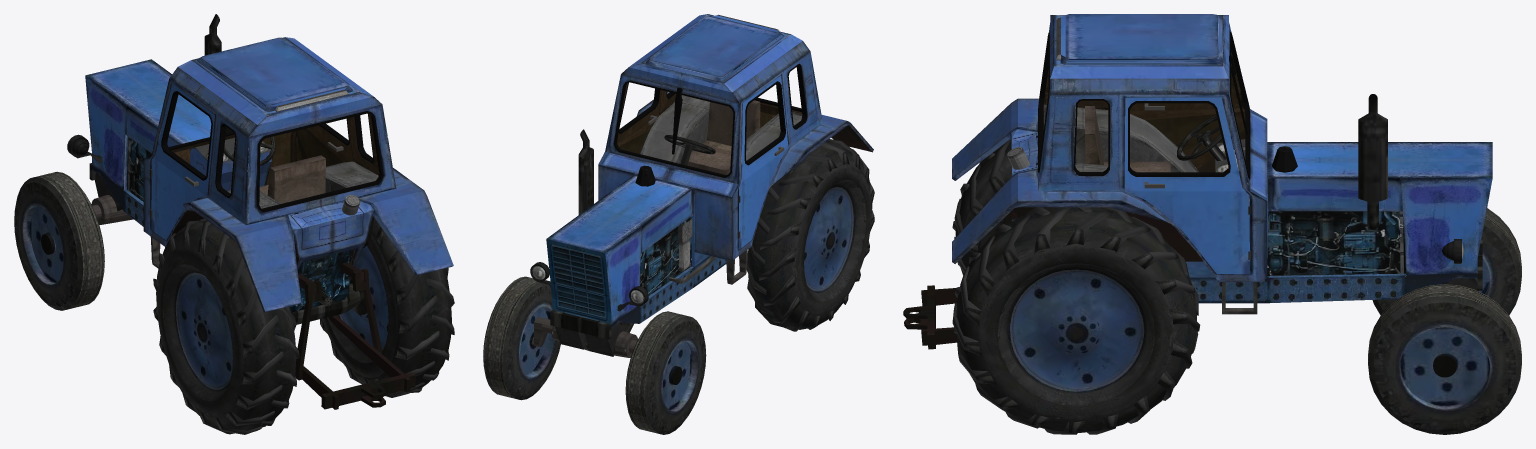
Rendered from tractor-mtz80-lowpoly.glb.
The picture shows the model from 3 angles, left to right: view 1: azimuth 30°, elevation 25°; view 2: azimuth 150°, elevation 25°; view 3: azimuth 270°, elevation 25°; orthographic projection. The views are drawn at different scales.
Visible parts, largest first — view 1: Tracktor, Wheel_Back_L, Wheel_Back_R, Front_Wheel_L, TrapDoor, hook, Door_L, Door_R, drive_back, rail, Light.001, pipe; view 2: Tracktor, Wheel_Back_L, Front_Wheel_L, Front_Wheel_R, TrapDoor, Door_L, Door_R, pipe, rail, Machine, steering wheel, Light.001 (+1 smaller); view 3: Tracktor, Wheel_Back_R, Front_Wheel_R, Door_R, TrapDoor, Front_Wheel_L, Door_L, pipe, Wheel_Back_L, hook, steering wheel.
Boxes of the visible parts, x1,y1,x2,y2 form: Tracktor: (85,37,453,312); Wheel_Back_L: (153,218,299,434); Wheel_Back_R: (320,218,454,397); Front_Wheel_L: (14,171,104,310); TrapDoor: (197,37,352,111); hook: (295,262,415,409); Door_L: (151,84,214,240); Door_R: (297,118,352,166); drive_back: (291,276,366,324); rail: (91,195,133,224); Light.001: (67,134,102,163); pipe: (204,14,221,55); Tracktor: (546,14,873,356); Wheel_Back_L: (746,139,874,331); Front_Wheel_L: (625,311,706,434); Front_Wheel_R: (483,276,560,400); TrapDoor: (645,14,784,81); Door_L: (738,76,788,249); Door_R: (617,82,661,153); pipe: (578,129,593,214); rail: (531,317,637,357); Machine: (678,218,692,271); steering wheel: (664,135,715,165); Light.001: (617,286,648,311); Tracktor: (952,15,1492,314); Wheel_Back_R: (952,207,1200,434); Front_Wheel_R: (1368,284,1521,434); Door_R: (1124,97,1250,274); TrapDoor: (1056,14,1222,64); Front_Wheel_L: (1372,208,1521,315); Door_L: (1130,65,1245,172); pipe: (1358,94,1387,229); Wheel_Back_L: (952,139,1015,275); hook: (903,210,1018,349); steering wheel: (1177,115,1226,161).
Size of the model in its own units: 2 by 2.83 by 4.51.
1 material, 1 textured.
